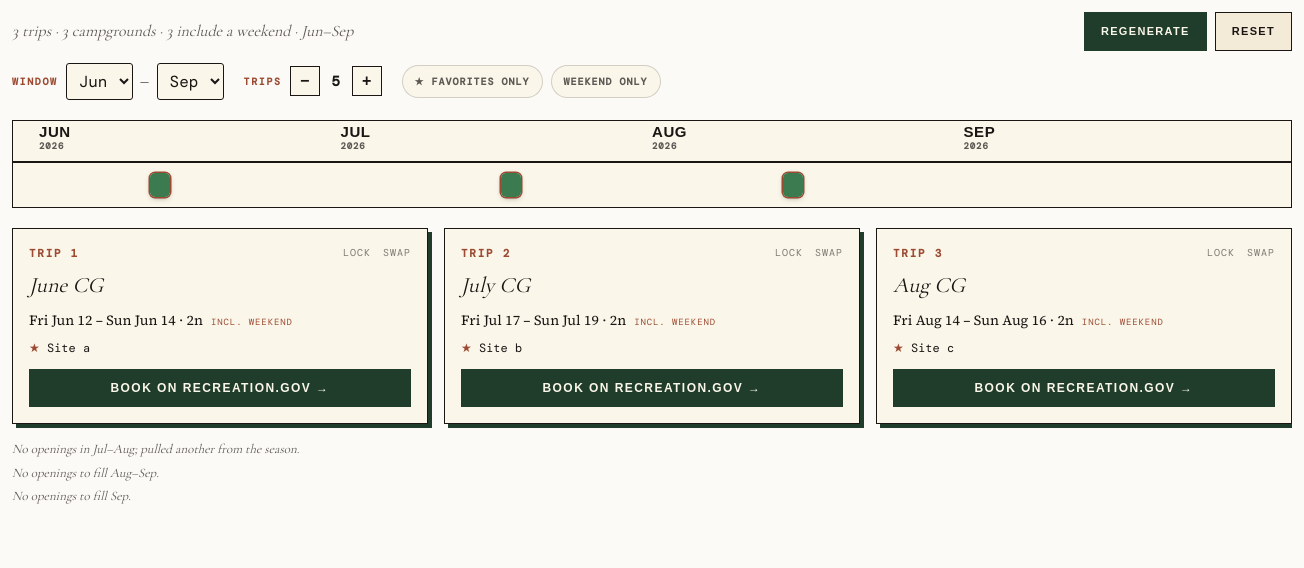
Test: SummerPlan › the trip-count stepper raises the target
This screenshot has width=1304, height=568.
Click the button named "more trips".
click(367, 81)  # box [352,66,382,96]
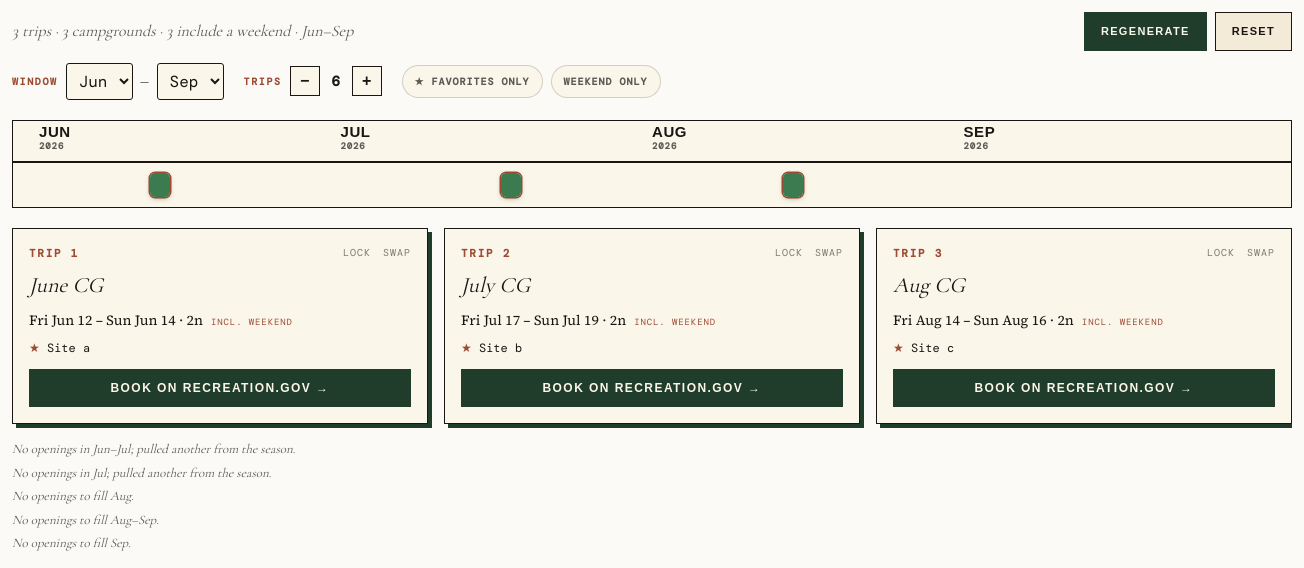
expect the text "5" reads "6": met, box [331,72,340,90]
